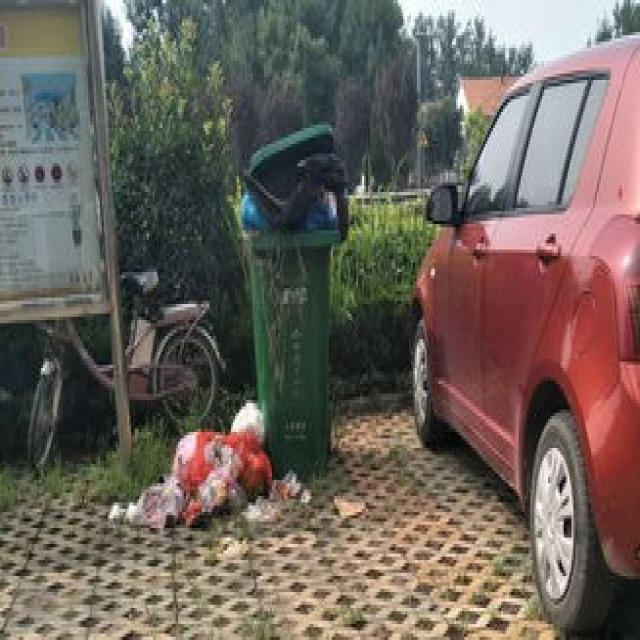garbage: (106, 397, 362, 525)
overflow: (239, 121, 346, 474)
